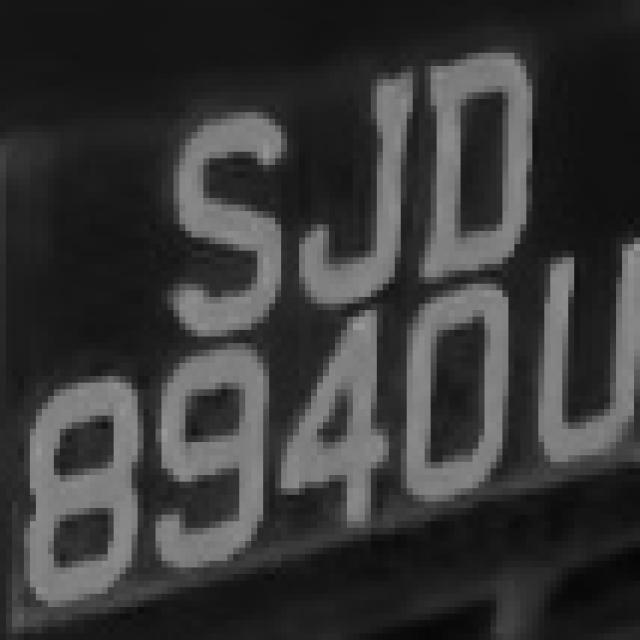0: (377, 277, 502, 535)
4: (281, 317, 407, 567)
8: (12, 356, 149, 640)
9: (144, 330, 299, 594)
D: (395, 53, 544, 277)
J: (287, 66, 419, 317)
S: (132, 99, 287, 336)
U: (514, 231, 640, 468)
